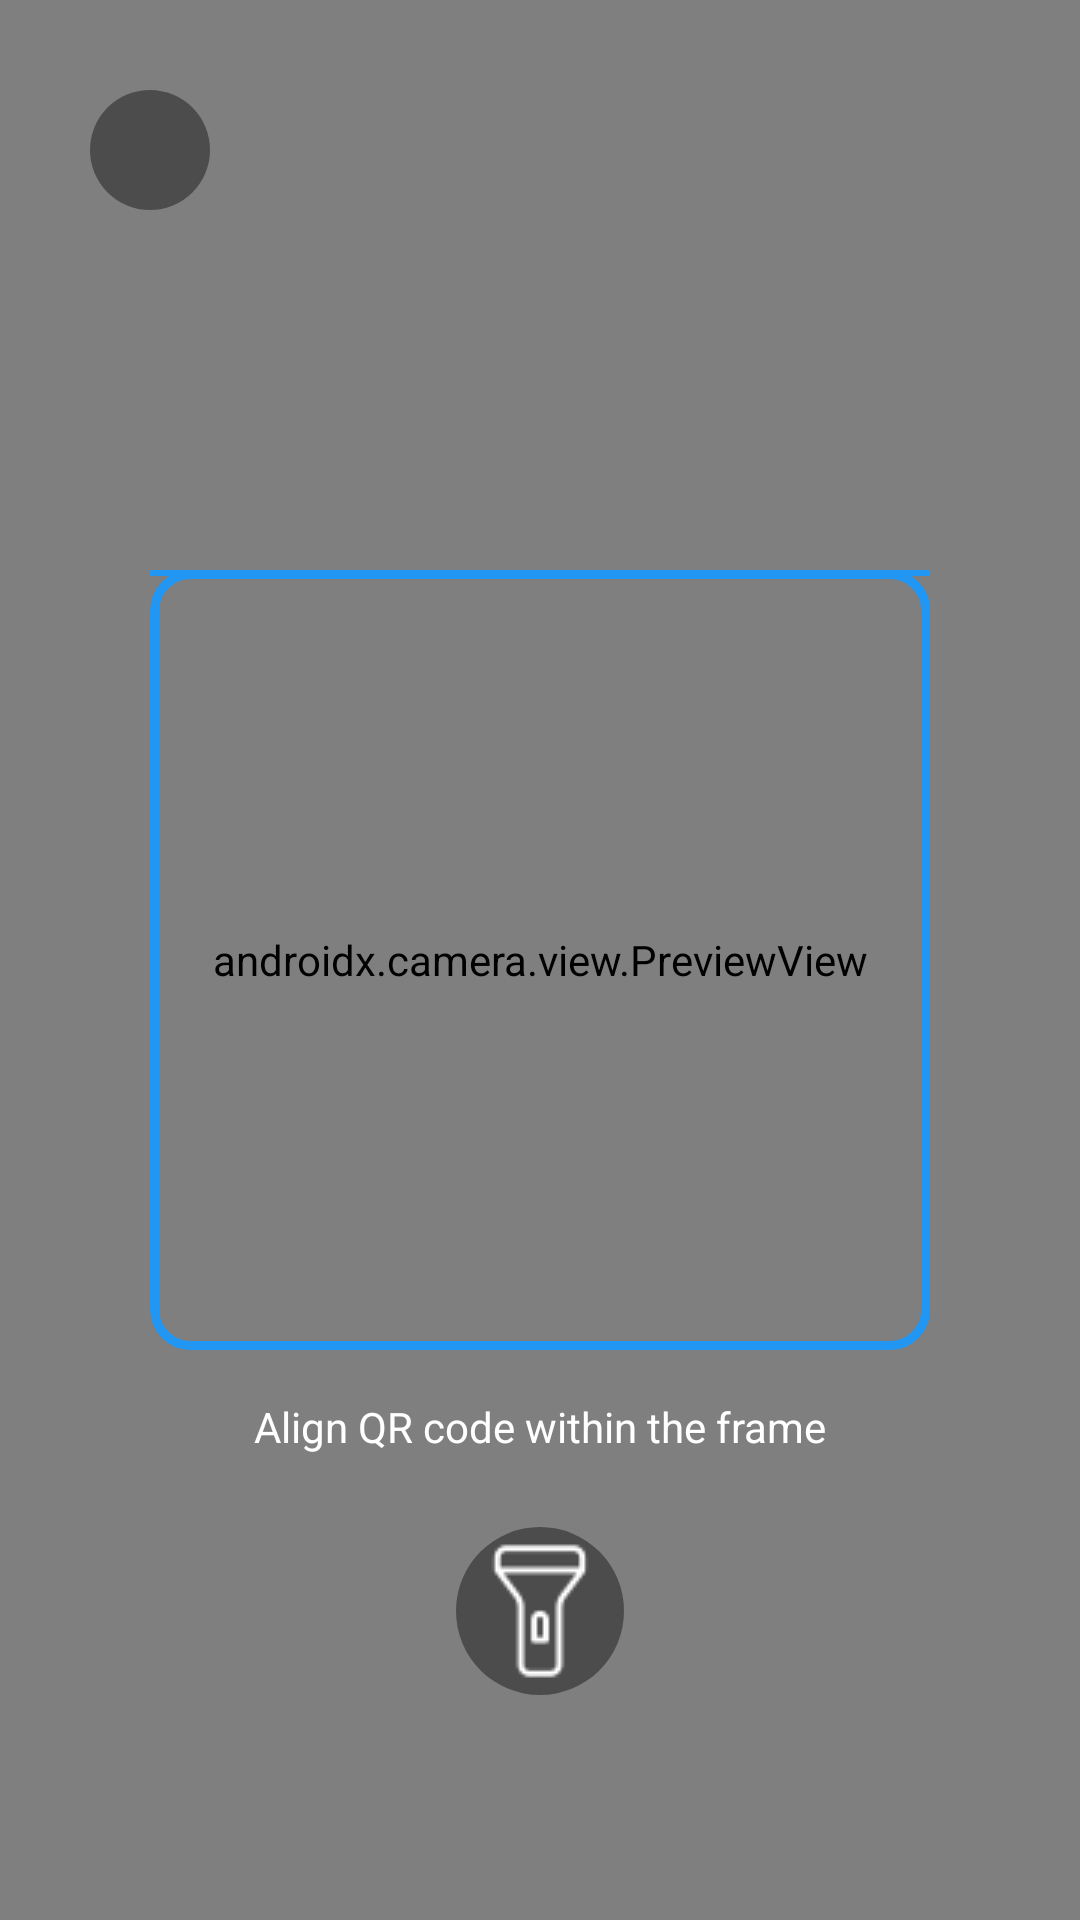

Named icons in this screenshot (1080*1920) and their centers, point (x, y):
torch: point (540, 1611)
